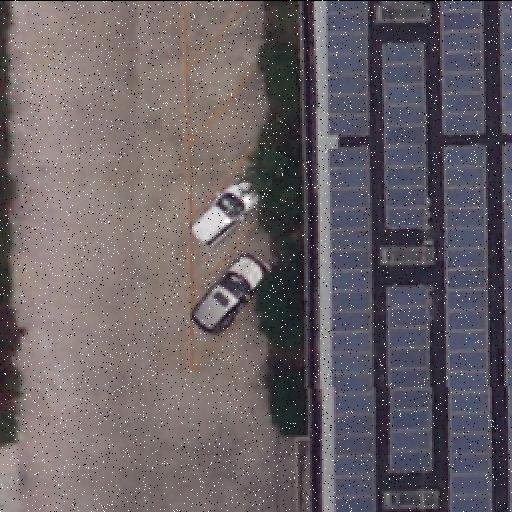solar-panel: (327, 144, 377, 512), (444, 144, 492, 512), (380, 40, 428, 228), (385, 285, 431, 475), (325, 0, 371, 136), (440, 0, 484, 136), (504, 144, 512, 512), (497, 1, 511, 135), (379, 0, 421, 4)
